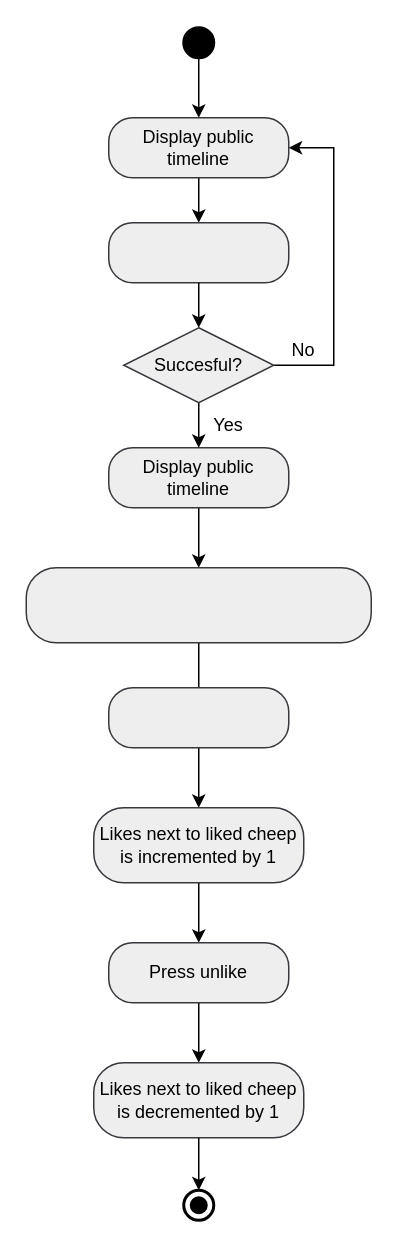
This 398x1247 diagram has some shape labels left out. The shapes that lost their labels are listed below. From the top down, each one's box as (x1, y1, x2, y2) in pixels, then its label:
(107, 221, 289, 283): Login
(25, 566, 371, 643): Cheeps with associated information and likes (heart with count)
(107, 686, 289, 748): Press like
